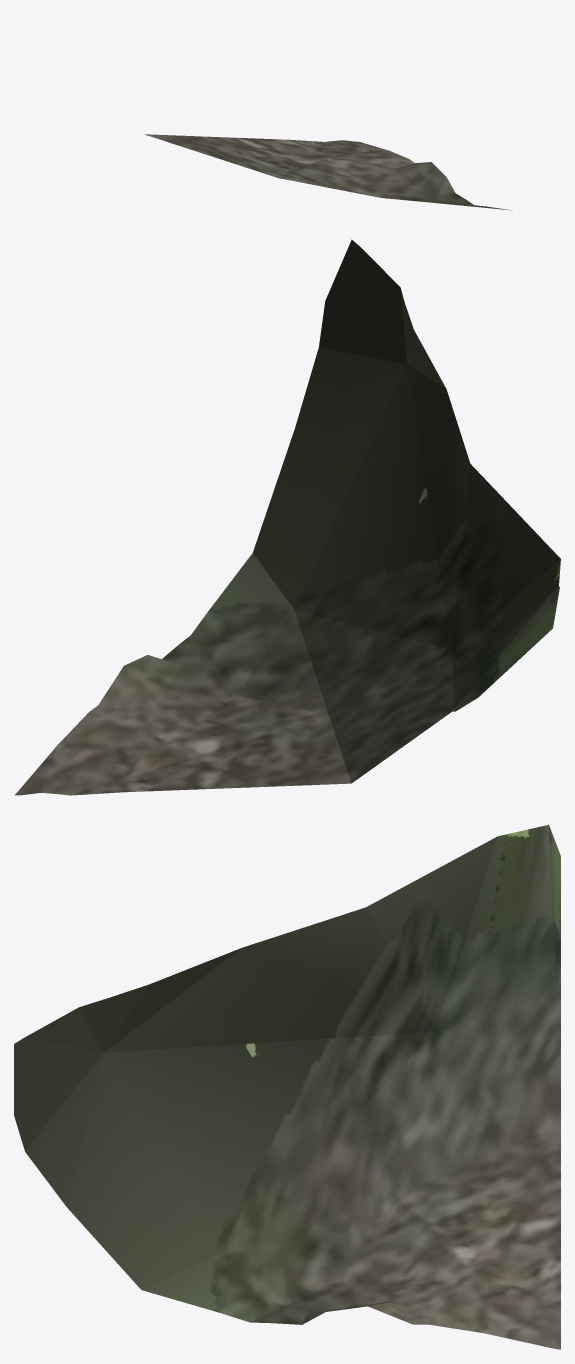
3 renders of one model, top to bottom at view 1: azimuth 30°, elevation 25°; view 2: azimuth 150°, elevation 25°; view 3: azimuth 270°, elevation 25°, orthographic. The views are drawn at different scales.
Size of the model in its own units: 2.95 by 1.75 by 2.95.
3 materials, 3 textured.
